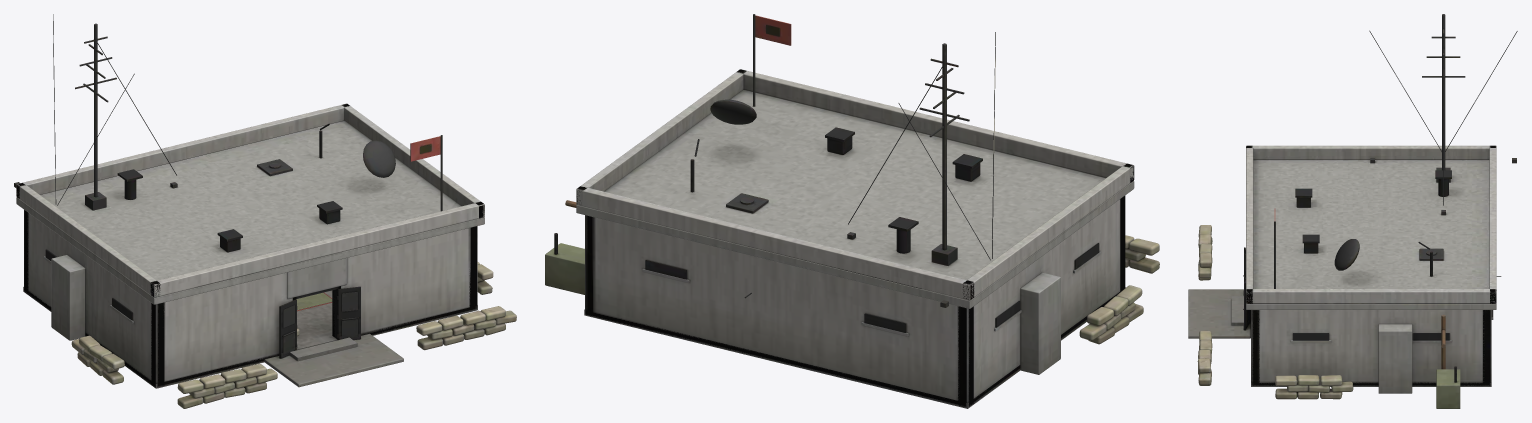
3 views of the same model, side by side, from view 1: azimuth 30°, elevation 25°; view 2: azimuth 150°, elevation 25°; view 3: azimuth 270°, elevation 25° (orthographic). The views are drawn at different scales.
Parts seen in each view (by area): view 1: HQ_Roof, HQ_Shell; view 2: HQ_Roof, HQ_Shell; view 3: HQ_Roof, HQ_Shell.
Part boxes in pixels (left/top/right/bottom): HQ_Roof: left=14, top=14, right=484, bottom=336; HQ_Shell: left=23, top=210, right=516, bottom=408; HQ_Roof: left=576, top=14, right=1134, bottom=308; HQ_Shell: left=545, top=196, right=1159, bottom=408; HQ_Roof: left=1246, top=14, right=1517, bottom=309; HQ_Shell: left=1188, top=225, right=1493, bottom=408.
Bounding box in the file's own units: 17.52 × 11.47 × 13.68.
6 materials, 3 textured.
